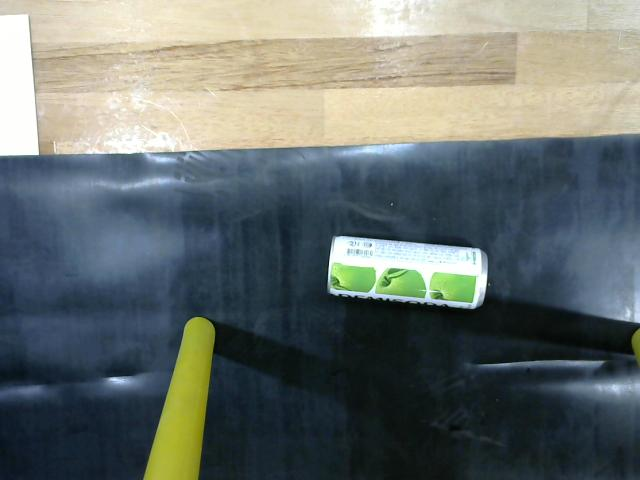can: (321, 224, 500, 317)
